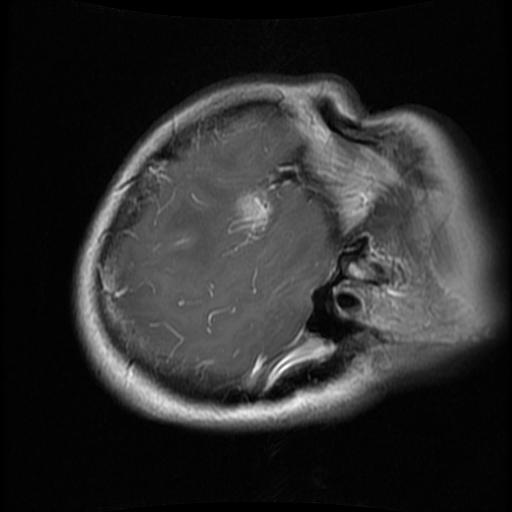glioma: (225, 186, 274, 239)
